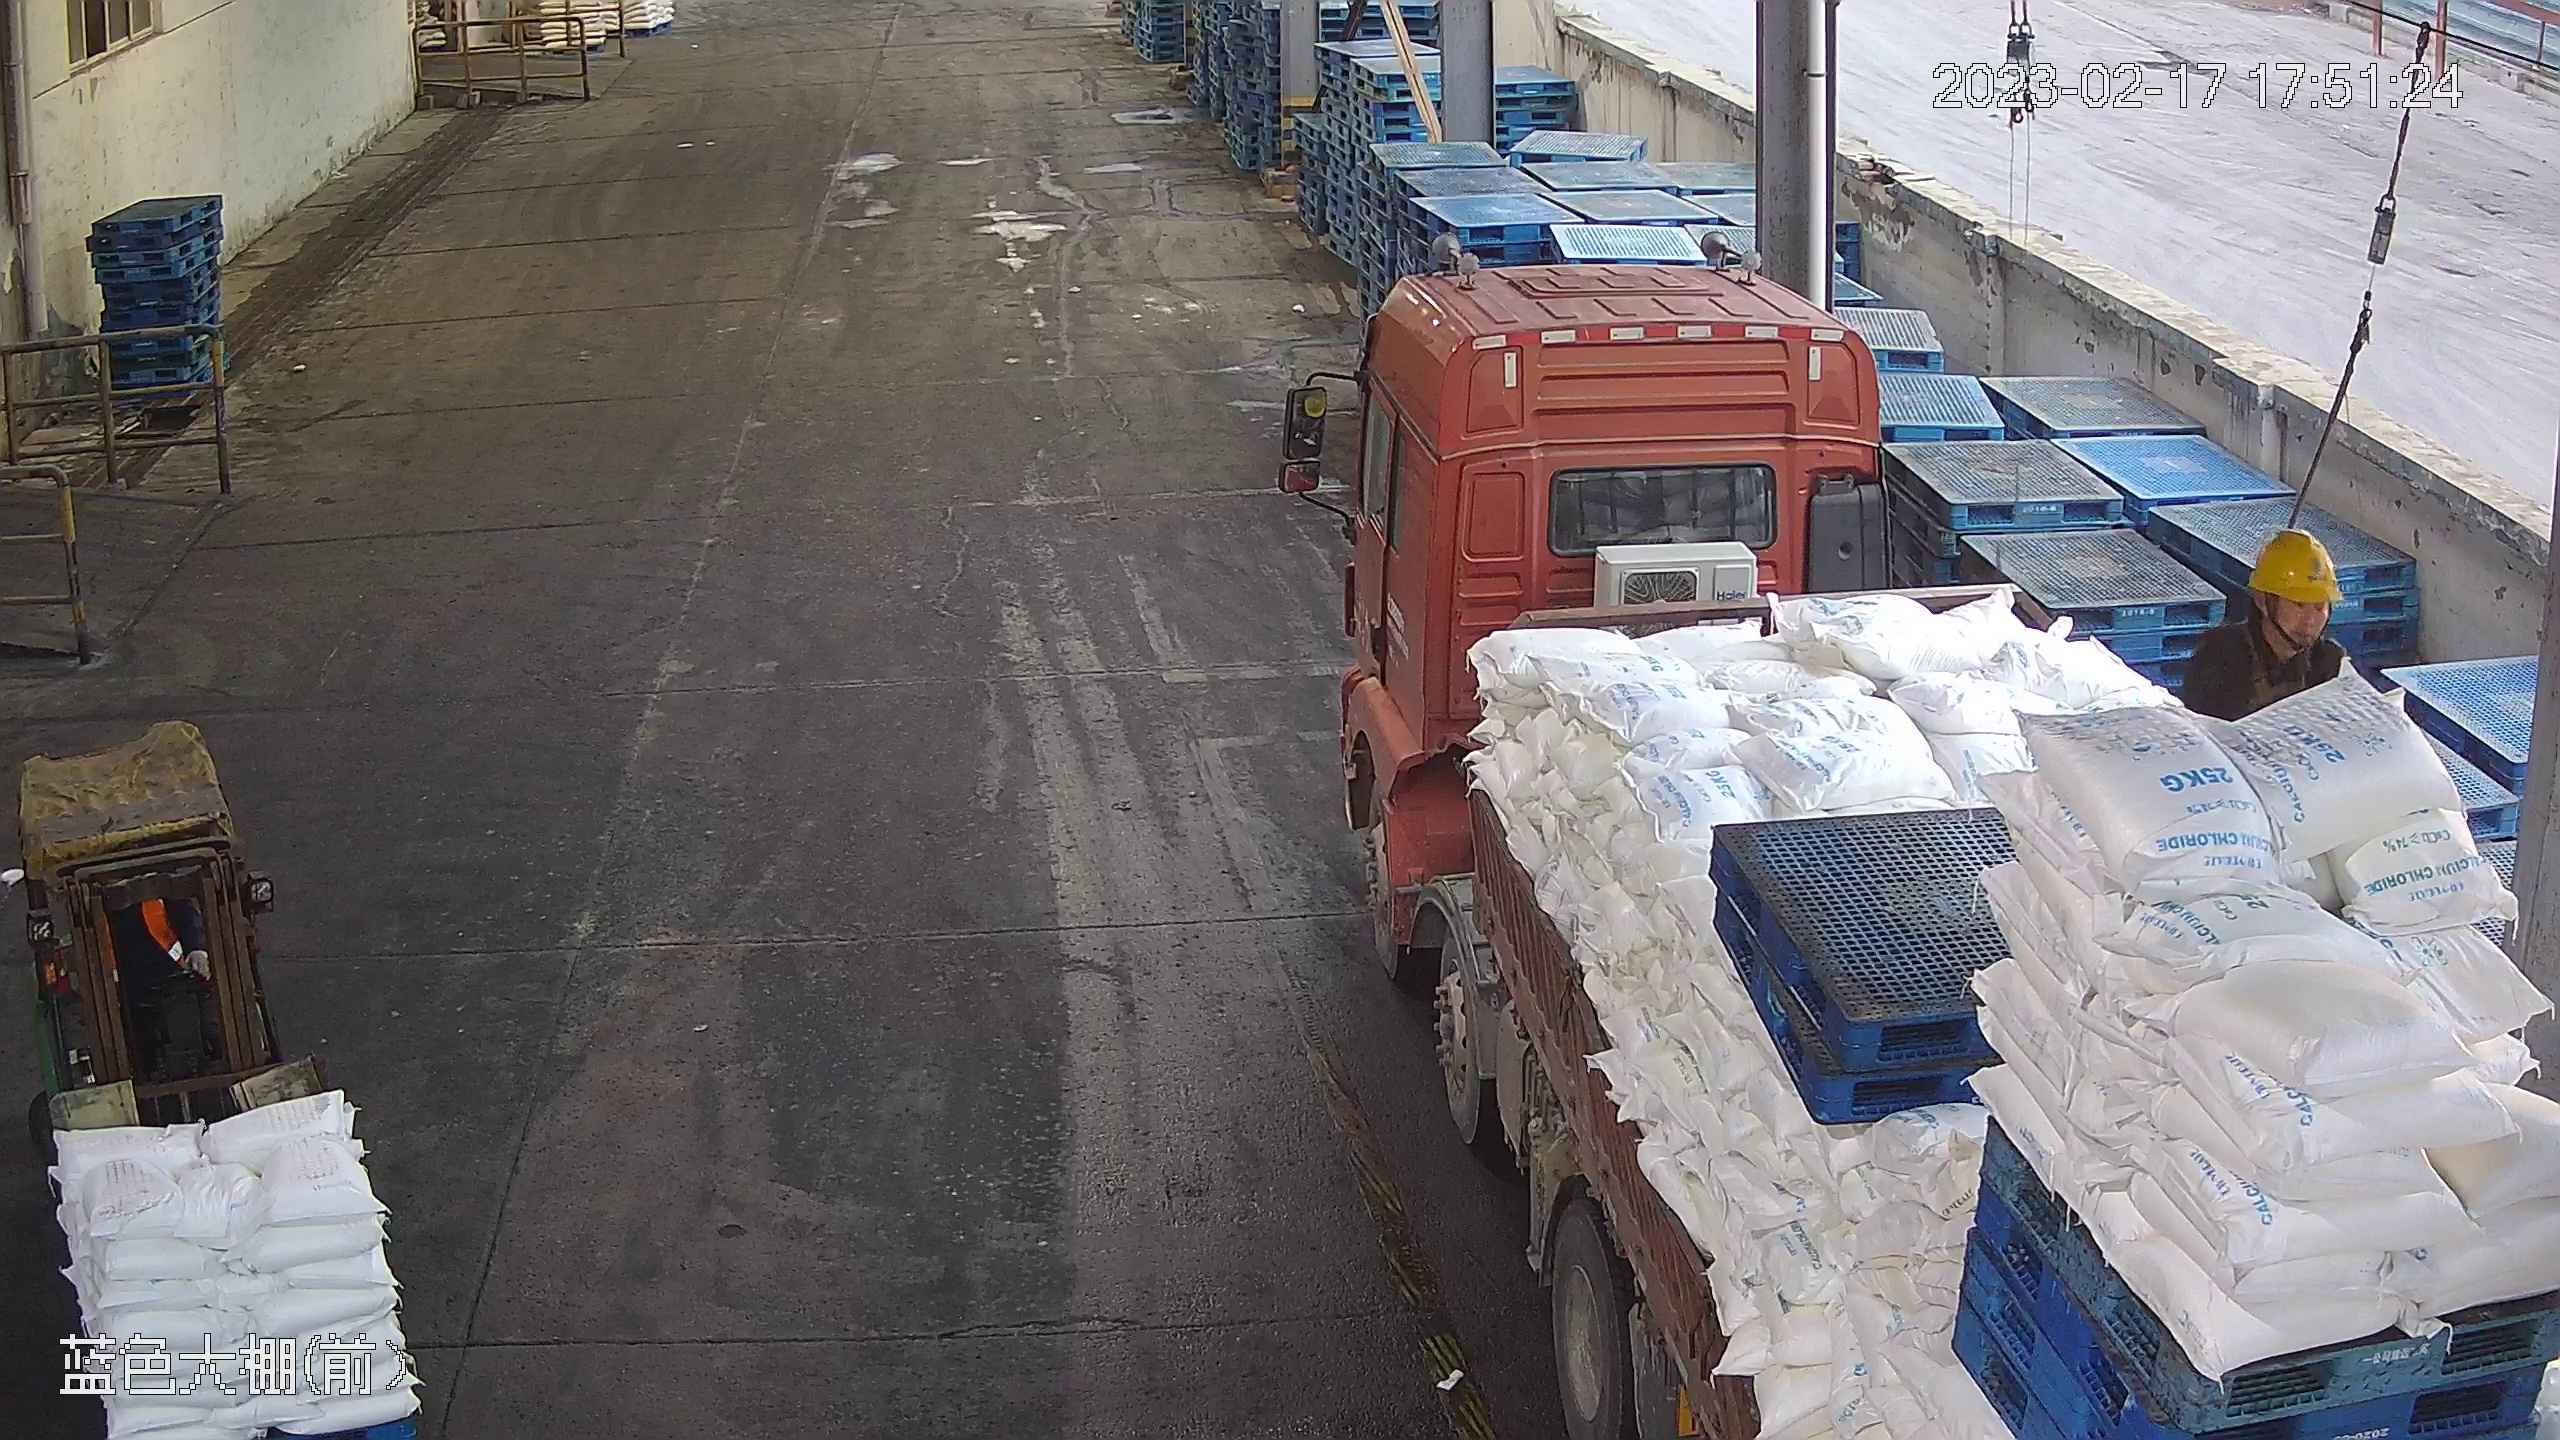belt: (2228, 616, 2318, 702)
head: (2191, 526, 2352, 685)
helmet: (2244, 525, 2344, 602)
truck: (1278, 235, 2560, 1440)
